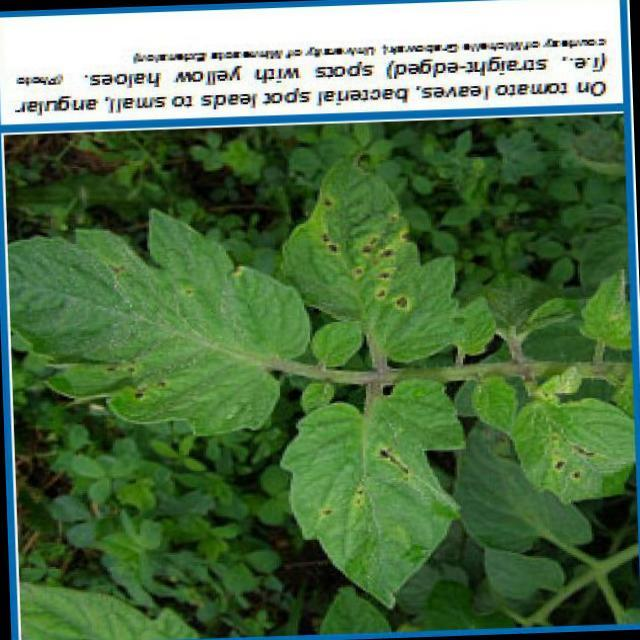Tomato leaf bacterial spot: (8, 206, 311, 453), (259, 372, 465, 610), (281, 157, 475, 372), (468, 382, 639, 511)
